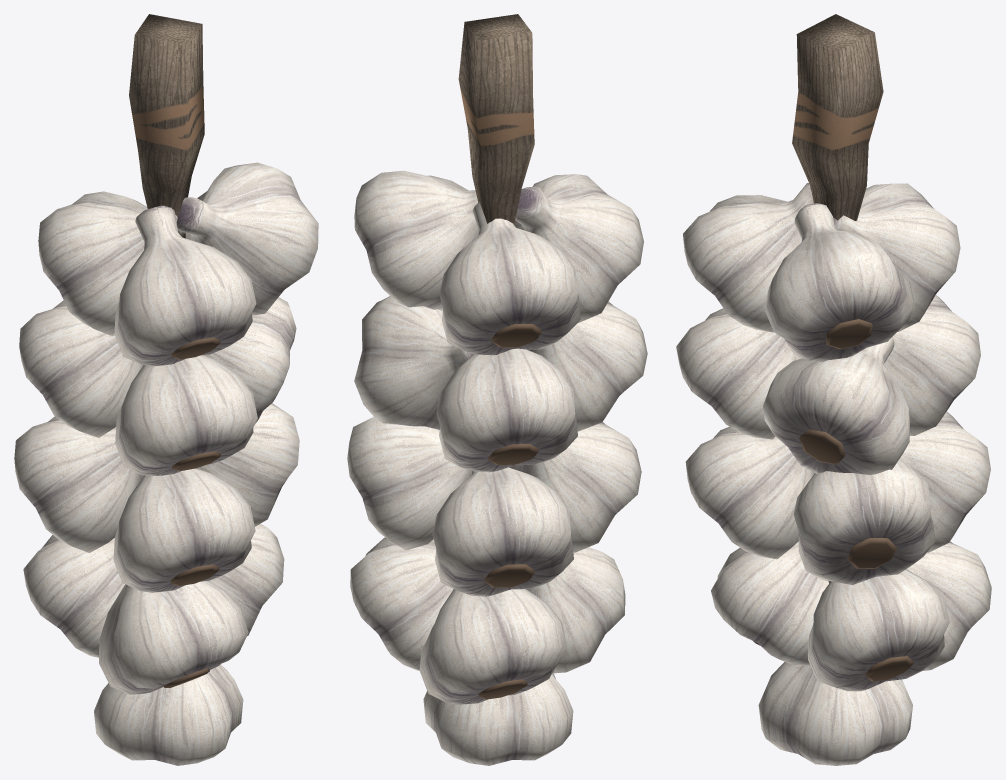
Rendered from prop_garlic_wreath.fbx.
3 renders of one model, left to right at view 1: azimuth 30°, elevation 25°; view 2: azimuth 150°, elevation 25°; view 3: azimuth 270°, elevation 25°, orthographic.
Parts seen in each view (by area): view 1: geo1.001, geo1.002, geo1.005, Cylinder, geo1; view 2: geo1.002, geo1.005, geo1.001, Cylinder, geo1; view 3: geo1.005, geo1.001, geo1.002, Cylinder, geo1.
Boxes of the visible parts, x1=… form: geo1.001: x1=99, y1=205, x2=257, y2=694; geo1.002: x1=14, y1=191, x2=185, y2=657; geo1.005: x1=176, y1=162, x2=318, y2=635; Cylinder: x1=129, y1=14, x2=204, y2=238; geo1: x1=94, y1=664, x2=243, y2=765; geo1.002: x1=419, y1=203, x2=580, y2=704; geo1.005: x1=347, y1=170, x2=478, y2=670; geo1.001: x1=510, y1=174, x2=647, y2=673; Cylinder: x1=458, y1=14, x2=534, y2=467; geo1: x1=423, y1=673, x2=573, y2=765; geo1.005: x1=763, y1=203, x2=949, y2=691; geo1.001: x1=676, y1=183, x2=828, y2=665; geo1.002: x1=833, y1=183, x2=991, y2=670; Cylinder: x1=792, y1=14, x2=883, y2=583; geo1: x1=758, y1=662, x2=912, y2=765.
Bounding box in the file's own units: 9.49 × 27.01 × 10.76.
